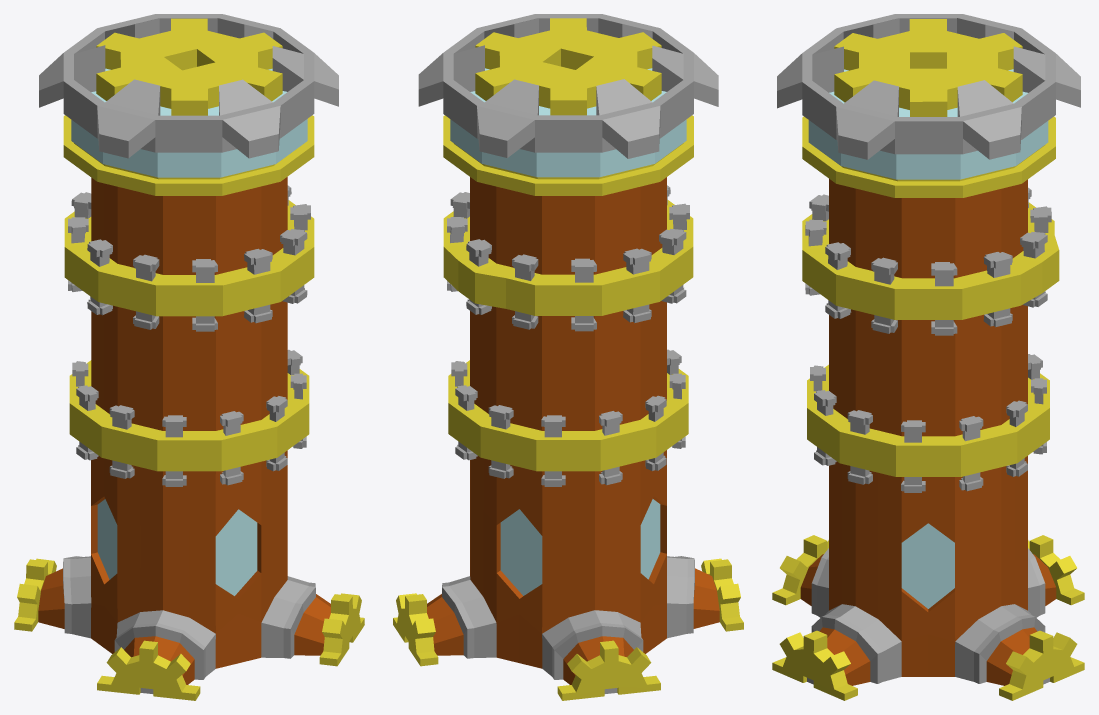
Rendered from Tower_Single_Constant_Dmg.obj.
3 renders of one model, left to right at view 1: azimuth 30°, elevation 25°; view 2: azimuth 150°, elevation 25°; view 3: azimuth 270°, elevation 25°, orthographic.
Visible parts, largest first — view 1: Cylinder.003; view 2: Cylinder.003; view 3: Cylinder.003.
Boxes of the visible parts, left/top/right/bottom form: Cylinder.003: left=14, top=14, right=364, bottom=700; Cylinder.003: left=393, top=14, right=743, bottom=700; Cylinder.003: left=772, top=14, right=1084, bottom=700.
Bounding box in the file's own units: 1.51 × 3.09 × 1.5.
